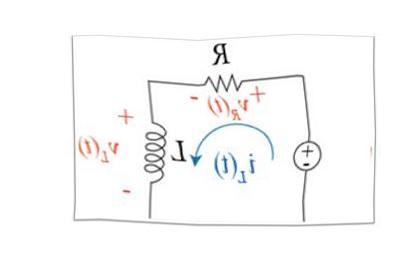Battery: (283, 130, 330, 179)
